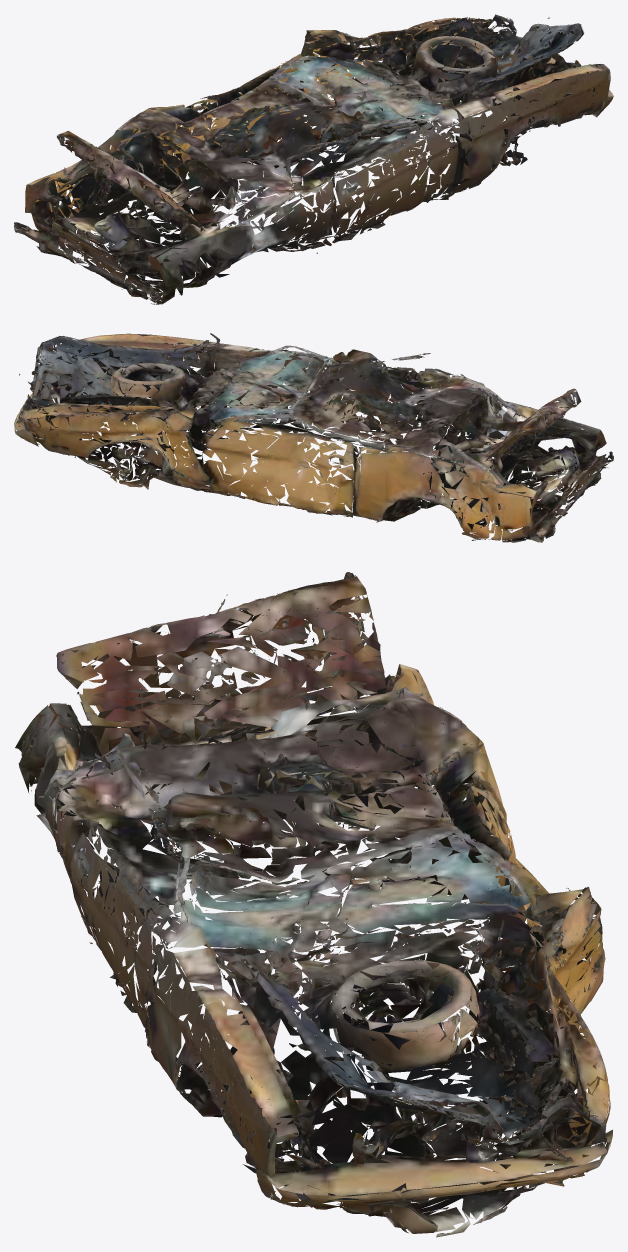
The model's file is crushed_classic.glb.
3 views of the same model, one above another, from view 1: azimuth 30°, elevation 25°; view 2: azimuth 150°, elevation 25°; view 3: azimuth 270°, elevation 25° (orthographic). The views are drawn at different scales.
Parts seen in each view (by area): view 1: Object_14, Object_15, Object_22, Object_28, Object_2, Object_29, Object_16, Object_5, Object_17, Object_27, Object_18, Object_3 (+19 smaller); view 2: Object_2, Object_3, Object_22, Object_4, Object_24, Object_14, Object_23, Object_5, Object_9, Object_10, Object_15, Object_16 (+19 smaller); view 3: Object_2, Object_14, Object_8, Object_5, Object_28, Object_22, Object_18, Object_7, Object_13, Object_9, Object_4, Object_29 (+18 smaller).
Part boxes in pixels (x1,y1,x2,y2): Object_14: [53, 107, 350, 268]; Object_15: [79, 144, 331, 299]; Object_22: [25, 99, 248, 225]; Object_28: [327, 93, 494, 216]; Object_2: [181, 17, 498, 184]; Object_29: [346, 80, 535, 232]; Object_16: [93, 129, 344, 281]; Object_5: [243, 30, 462, 169]; Object_17: [65, 152, 337, 296]; Object_27: [14, 77, 508, 232]; Object_18: [142, 64, 613, 291]; Object_3: [207, 26, 491, 153]; Object_2: [38, 359, 400, 514]; Object_3: [76, 363, 360, 499]; Object_22: [310, 403, 548, 540]; Object_4: [119, 396, 318, 505]; Object_24: [326, 428, 514, 527]; Object_14: [333, 354, 578, 516]; Object_23: [310, 394, 536, 539]; Object_5: [137, 367, 349, 504]; Object_9: [19, 336, 206, 464]; Object_10: [27, 345, 126, 479]; Object_15: [398, 355, 608, 510]; Object_16: [377, 367, 597, 487]; Object_2: [194, 774, 609, 1172]; Object_14: [43, 624, 439, 941]; Object_8: [293, 987, 612, 1220]; Object_5: [311, 800, 601, 1058]; Object_28: [72, 810, 308, 1062]; Object_22: [277, 610, 512, 895]; Object_18: [56, 641, 309, 1200]; Object_7: [279, 845, 609, 1206]; Object_13: [57, 576, 590, 1224]; Object_9: [243, 973, 607, 1233]; Object_4: [362, 836, 604, 1134]; Object_29: [92, 887, 309, 1093].
Size of the model in its own units: 28.97 by 5.9 by 14.58.
1 material, 1 textured.
